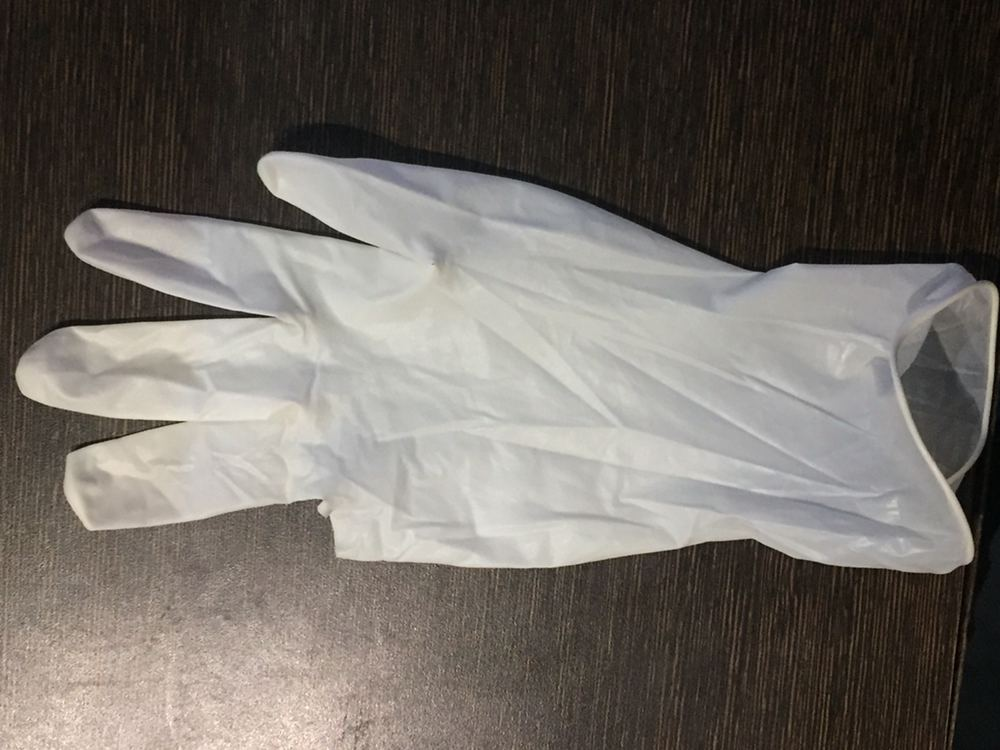defected: (1, 67, 972, 632)
